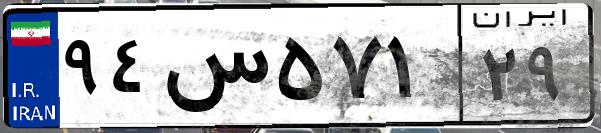1: (385, 28, 445, 110)
2: (475, 38, 525, 113)
4: (110, 28, 158, 98)
5: (270, 28, 330, 110)
7: (330, 28, 385, 110)
9: (57, 26, 110, 100), (525, 38, 570, 115)
س: (158, 20, 270, 120)
